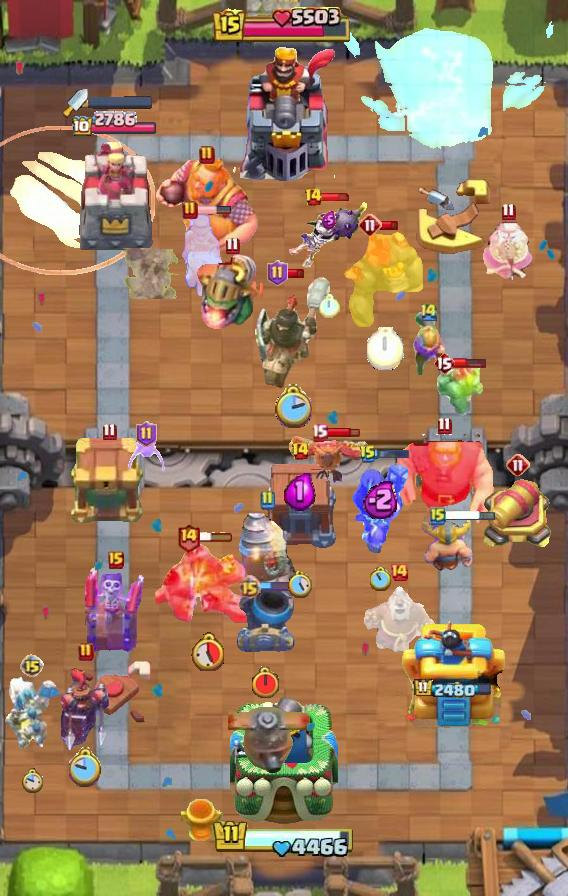balloon: (393, 434, 495, 532)
bar: (73, 140, 155, 256)
barbarian: (127, 437, 165, 475)
bomb: (70, 437, 148, 525), (261, 464, 339, 550)
bomb-tower: (409, 311, 449, 375)
cannoneer-tower: (340, 228, 430, 330), (153, 541, 261, 625)
clock: (212, 818, 356, 860), (213, 7, 355, 45)
dark-prince: (228, 686, 312, 774)
electro-spirit: (363, 479, 400, 519), (284, 471, 316, 511), (322, 211, 336, 229)
elite-barbarian: (179, 213, 225, 297)
elixir: (273, 384, 312, 428), (367, 327, 404, 370), (69, 747, 103, 787), (191, 633, 225, 672), (251, 666, 281, 700), (288, 571, 312, 598), (21, 768, 43, 794), (370, 567, 392, 591), (320, 294, 341, 318)
elixir-collector: (360, 581, 438, 657), (479, 214, 537, 280)
elixir-golem-big: (61, 666, 111, 750)
emote: (443, 510, 497, 523), (198, 531, 234, 543), (258, 580, 294, 592), (325, 426, 360, 438), (454, 357, 487, 369), (375, 448, 410, 459), (196, 205, 232, 215), (320, 192, 352, 202), (381, 220, 400, 231), (287, 269, 306, 280)
fisherman: (121, 249, 180, 300)
giant-skeleton: (154, 154, 260, 256)
goblin-ball: (287, 200, 371, 270)
goblin-giant: (420, 520, 476, 574)
golden-knight: (288, 435, 370, 485)
ice-wizard: (1, 125, 155, 274)
inferno-dragon: (250, 274, 334, 390), (352, 459, 410, 553)
king-tower: (230, 45, 338, 181), (230, 692, 338, 826)
king-tower-bar: (88, 95, 152, 108)
magic-archer: (237, 512, 297, 604)
mega-knight: (341, 7, 558, 153)
mini-pekka: (0, 673, 64, 755)
musketeer: (235, 588, 295, 652)
night-witch: (194, 252, 270, 330)
queen-tower: (399, 617, 507, 731)
royal-recruit: (482, 478, 554, 552)
selected: (70, 111, 157, 139), (413, 678, 493, 700)
skeleton-king-bar: (85, 563, 147, 653)
text: (176, 522, 201, 553), (358, 213, 382, 237), (506, 453, 530, 477), (20, 654, 44, 678), (239, 574, 262, 598), (268, 260, 289, 286), (135, 421, 156, 447), (433, 351, 455, 375), (419, 301, 439, 322), (304, 187, 324, 207), (290, 441, 310, 461), (389, 562, 409, 582), (359, 444, 377, 464), (199, 145, 215, 165), (182, 200, 198, 220), (259, 490, 275, 510), (430, 506, 446, 526), (78, 642, 94, 662), (311, 423, 328, 441), (108, 551, 124, 569), (225, 237, 240, 256), (437, 416, 451, 435), (501, 203, 515, 221), (103, 423, 117, 441)
valkyrie-evolution: (435, 365, 487, 417)
